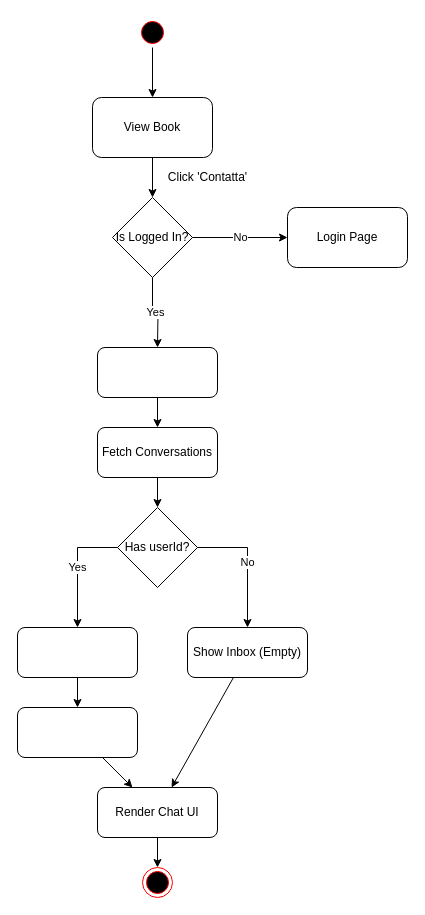
Image size: 425x915. Some labels were removed from this diagram. The shapes that lost their labels are listed below. From the top down, each one's centre as x and y in pixels, then its label:
At (x=157, y=372): "Parse URL Params".
At (x=77, y=652): "Select Conversation".
At (x=77, y=732): "Fetch Messages (API)".
